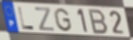1: (77, 8, 90, 34)
2: (109, 10, 126, 35)
B: (88, 9, 110, 35)
G: (53, 8, 74, 33)
L: (17, 6, 36, 31)
Z: (34, 7, 56, 33)
